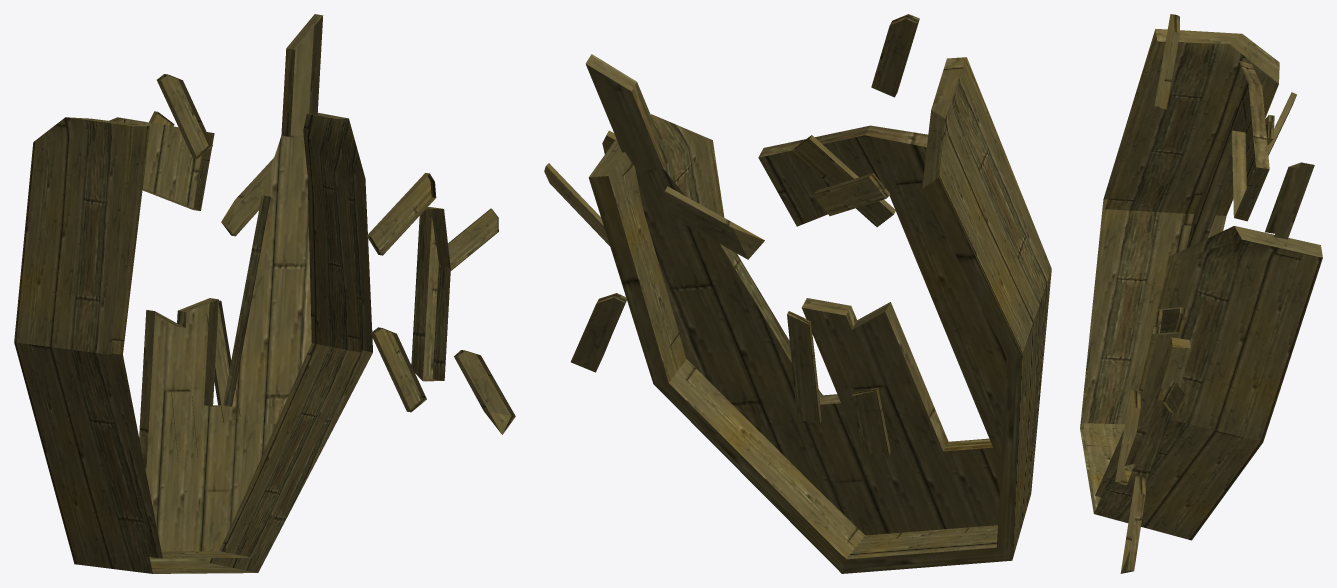
The model's file is SMSH_ Boat_2.FBX.
3 views of the same model, side by side, from view 1: azimuth 30°, elevation 25°; view 2: azimuth 150°, elevation 25°; view 3: azimuth 270°, elevation 25° (orthographic). The views are drawn at different scales.
Parts seen in each view (by area): view 1: Ytlds__Boat_2; view 2: Ytlds__Boat_2; view 3: Ytlds__Boat_2.
Boxes of the visible parts, left/top/right/bottom form: Ytlds__Boat_2: left=14, top=14, right=515, bottom=573; Ytlds__Boat_2: left=544, top=14, right=1051, bottom=573; Ytlds__Boat_2: left=1080, top=14, right=1322, bottom=573.
Size of the model in its own units: 721 by 767 by 337.
